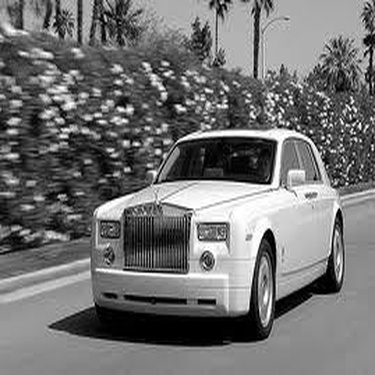car: (81, 126, 347, 342)
